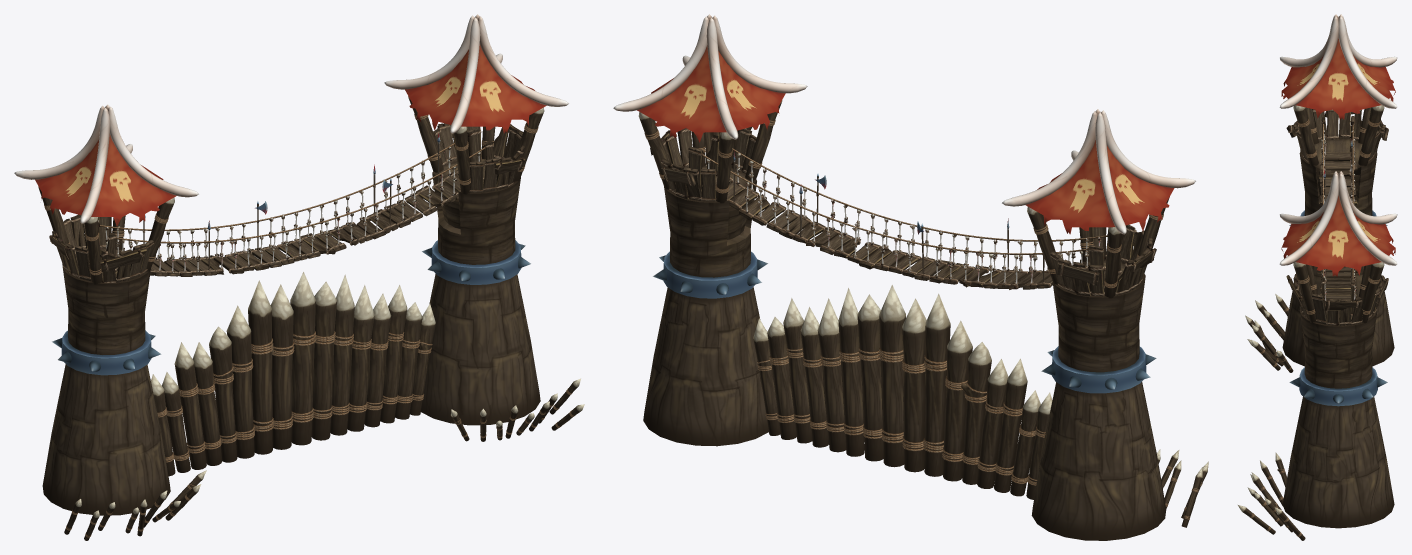
Rendered from Aiken_Cody_Gate_Export.fbx.
3 views of the same model, side by side, from view 1: azimuth 30°, elevation 25°; view 2: azimuth 150°, elevation 25°; view 3: azimuth 270°, elevation 25° (orthographic). The views are drawn at different scales.
Visible parts, largest first — view 1: CA_Bone_Femur73, CA_Woodspike_1_R_1, CA_Woodspike_1_L_1, CA_Woodspike_2A_L_1, CA_Woodspike_2B_R_1, CA_Woodspike_2A_L_2, CA_Woodspike_1_R_2, CA_Woodspike_2A_R_1, CA_Woodspike_3_L_2, CA_Woodspike_1_L_2, CA_Woodspike_2B_R_2, CA_Woodspike_2A_R_2 (+5 smaller); view 2: CA_Bone_Femur73, CA_Woodspike_1_R_1, CA_Woodspike_1_L_1, CA_Woodspike_2A_L_1, CA_Woodspike_2B_R_1, CA_Woodspike_2A_L_2, CA_Woodspike_1_R_2, CA_Woodspike_2A_R_1, CA_Woodspike_3_L_2, CA_Woodspike_1_L_2, CA_Woodspike_2B_R_2, CA_Woodspike_2B_L_2 (+5 smaller); view 3: CA_Bone_Femur73.
Part boxes in pixels (x1,y1,x2,y2): CA_Bone_Femur73: [14, 14, 584, 540]; CA_Woodspike_1_R_1: [290, 272, 315, 445]; CA_Woodspike_1_L_1: [248, 280, 273, 454]; CA_Woodspike_2A_L_1: [270, 284, 294, 449]; CA_Woodspike_2B_R_1: [311, 281, 336, 440]; CA_Woodspike_2A_L_2: [226, 305, 254, 458]; CA_Woodspike_1_R_2: [330, 274, 354, 435]; CA_Woodspike_2A_R_1: [347, 285, 374, 431]; CA_Woodspike_3_L_2: [209, 326, 237, 462]; CA_Woodspike_1_L_2: [174, 342, 206, 469]; CA_Woodspike_2B_R_2: [364, 293, 391, 427]; CA_Woodspike_2A_R_2: [380, 285, 407, 423]; CA_Bone_Femur73: [613, 14, 1208, 540]; CA_Woodspike_1_R_1: [879, 285, 905, 467]; CA_Woodspike_1_L_1: [923, 293, 950, 476]; CA_Woodspike_2A_L_1: [902, 298, 926, 472]; CA_Woodspike_2B_R_1: [857, 294, 883, 461]; CA_Woodspike_2A_L_2: [942, 320, 972, 481]; CA_Woodspike_1_R_2: [838, 288, 864, 456]; CA_Woodspike_2A_R_1: [817, 298, 846, 452]; CA_Woodspike_3_L_2: [961, 342, 991, 484]; CA_Woodspike_1_L_2: [993, 358, 1027, 492]; CA_Woodspike_2B_R_2: [800, 307, 828, 447]; CA_Woodspike_2B_L_2: [977, 359, 1008, 488]; CA_Bone_Femur73: [1238, 14, 1397, 540].
Bounding box in the file's own units: 20.88 × 15.91 × 6.62.
